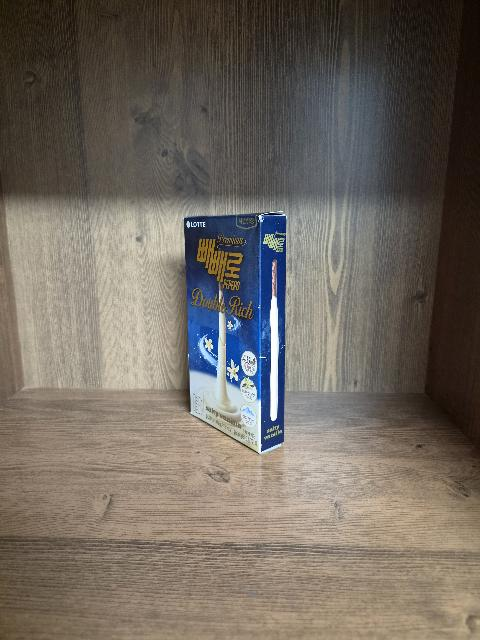pepero: (183, 211, 287, 455)
